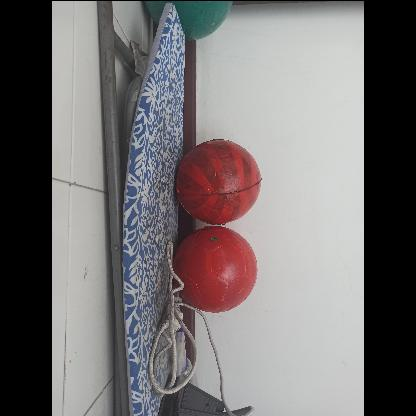red_ball: (176, 138, 262, 224), (174, 226, 258, 310)
